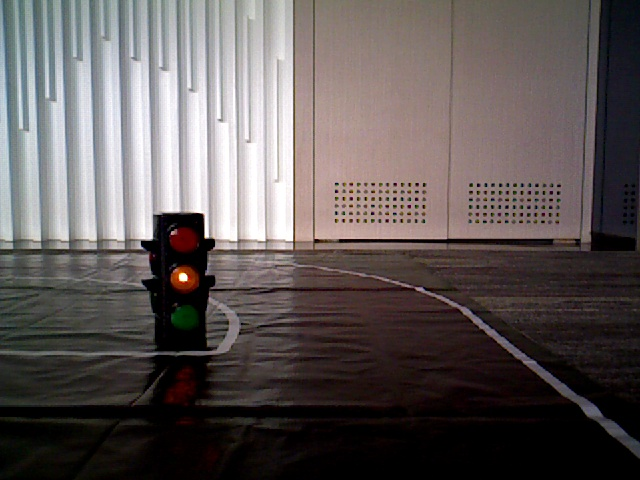yellow: (157, 215, 203, 345)
